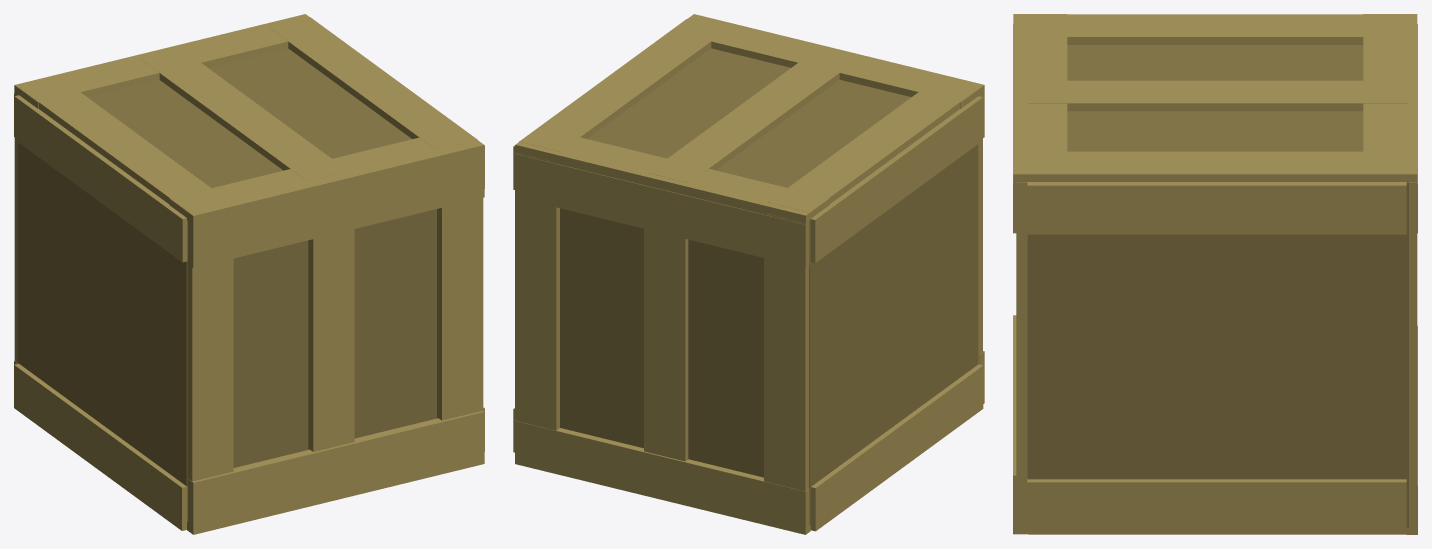
File: woodenCrate.fbx
3 views of the same model, side by side, from view 1: azimuth 30°, elevation 25°; view 2: azimuth 150°, elevation 25°; view 3: azimuth 270°, elevation 25° (orthographic). The views are drawn at different scales.
Visible parts, largest first — view 1: pCube26; view 2: pCube26; view 3: pCube26.
Part boxes in pixels (x1=…): pCube26: x1=14, y1=14, x2=484, y2=534; pCube26: x1=513, y1=14, x2=984, y2=534; pCube26: x1=1013, y1=14, x2=1417, y2=534.
Bounding box in the file's own units: 7.31 × 7.37 × 7.5.
